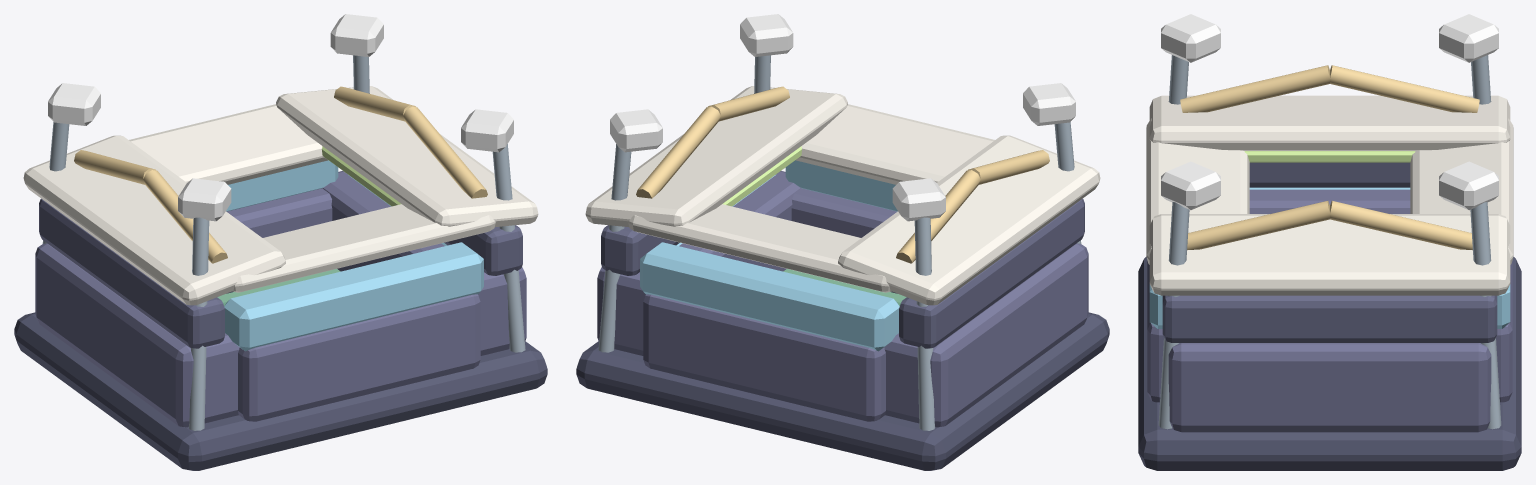
Rendered from megastadium.fbx.
3 views of the same model, side by side, from view 1: azimuth 30°, elevation 25°; view 2: azimuth 150°, elevation 25°; view 3: azimuth 270°, elevation 25° (orthographic). The views are drawn at different scales.
Visible parts, largest first — view 1: megastadium; view 2: megastadium; view 3: megastadium.
Boxes of the visible parts, left/top/right/bottom form: megastadium: left=14, top=14, right=547, bottom=470; megastadium: left=576, top=14, right=1109, bottom=470; megastadium: left=1138, top=14, right=1521, bottom=470.
Bounding box in the file's own units: 3.85 × 2.66 × 3.25.
